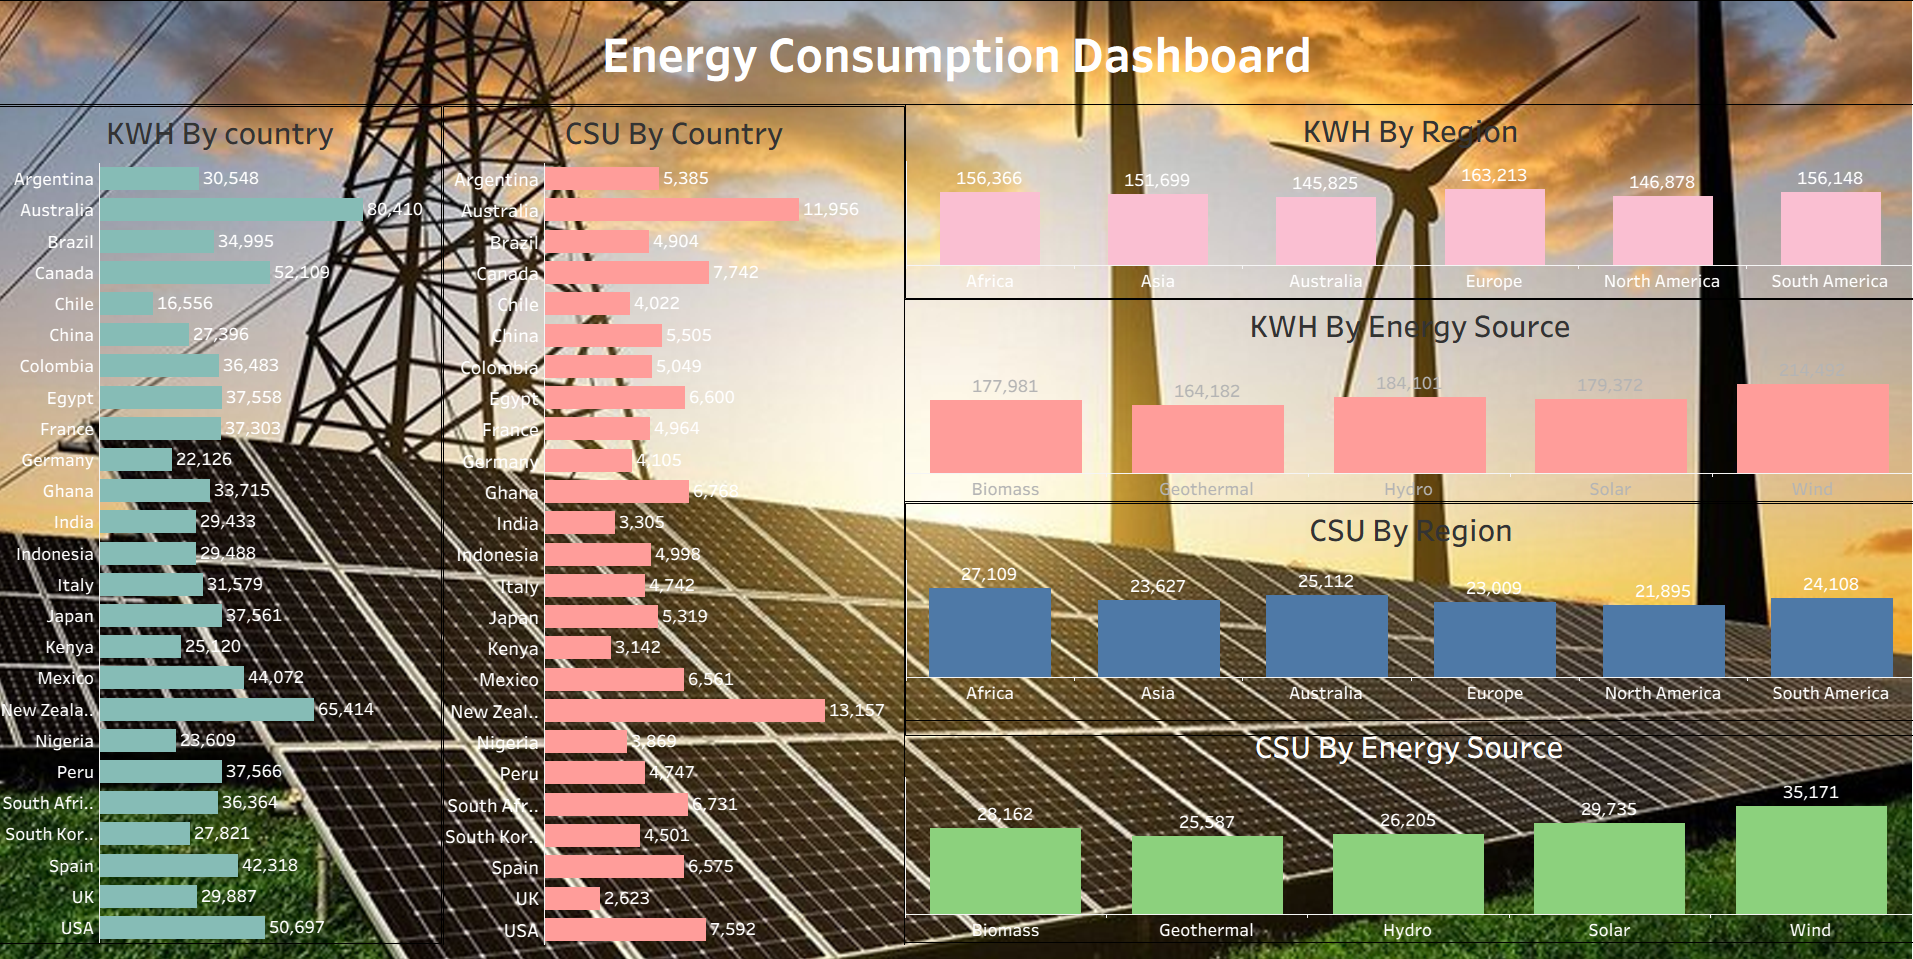

The page's visual inventory and layout, read from the dashboard file:
{"tool":"tableau","page":{"name":"Dashboard 1","canvas":[1000,1000],"units":"permille","ordinal":0},"visuals":[{"type":"text","box":[0.6,27,998.8,101.1]},{"type":"worksheet","title":"KWH By Region","mark":"Automatic","rows":["MONTHLY_USAGE_KWH"],"cols":["REGION"],"box":[472.9,126.9,526.5,186.8]},{"type":"worksheet","title":"KWH By country","mark":"Automatic","rows":["COUNTRY"],"cols":["MONTHLY_USAGE_KWH"],"box":[0.6,128.1,231.1,803.8]},{"type":"worksheet","title":"CSU By Country","mark":"Automatic","rows":["COUNTRY"],"cols":["COST_SAVINGS_USD"],"box":[232.2,128.1,240.7,804.9]},{"type":"worksheet","title":"KWH By Energy Source","mark":"Automatic","rows":["MONTHLY_USAGE_KWH"],"cols":["ENERGY_SOURCE"],"box":[472.3,313.8,527.1,195.1]},{"type":"worksheet","title":"CSU By Region","mark":"Automatic","rows":["COST_SAVINGS_USD"],"cols":["REGION"],"box":[472.9,508.8,527.1,223.3]},{"type":"worksheet","title":"CSU By Energy Source","mark":"Automatic","rows":["COST_SAVINGS_USD"],"cols":["ENERGY_SOURCE"],"box":[472.3,716.8,525.9,213.9]}]}

Visuals, with their boxes on the dashboard's canvas, which has no fixed pixel size, in thousandths of its width and height (x1, y1, x2, y2). These are canvas units, not pixel positions in the 1913x959 screenshot, which may show the page scaled, cropped or inside an application window:
text: x1=1, y1=27, x2=999, y2=128
"KWH By Region" worksheet: x1=473, y1=127, x2=999, y2=314
"KWH By country" worksheet: x1=1, y1=128, x2=232, y2=932
"CSU By Country" worksheet: x1=232, y1=128, x2=473, y2=933
"KWH By Energy Source" worksheet: x1=472, y1=314, x2=999, y2=509
"CSU By Region" worksheet: x1=473, y1=509, x2=1000, y2=732
"CSU By Energy Source" worksheet: x1=472, y1=717, x2=998, y2=931
